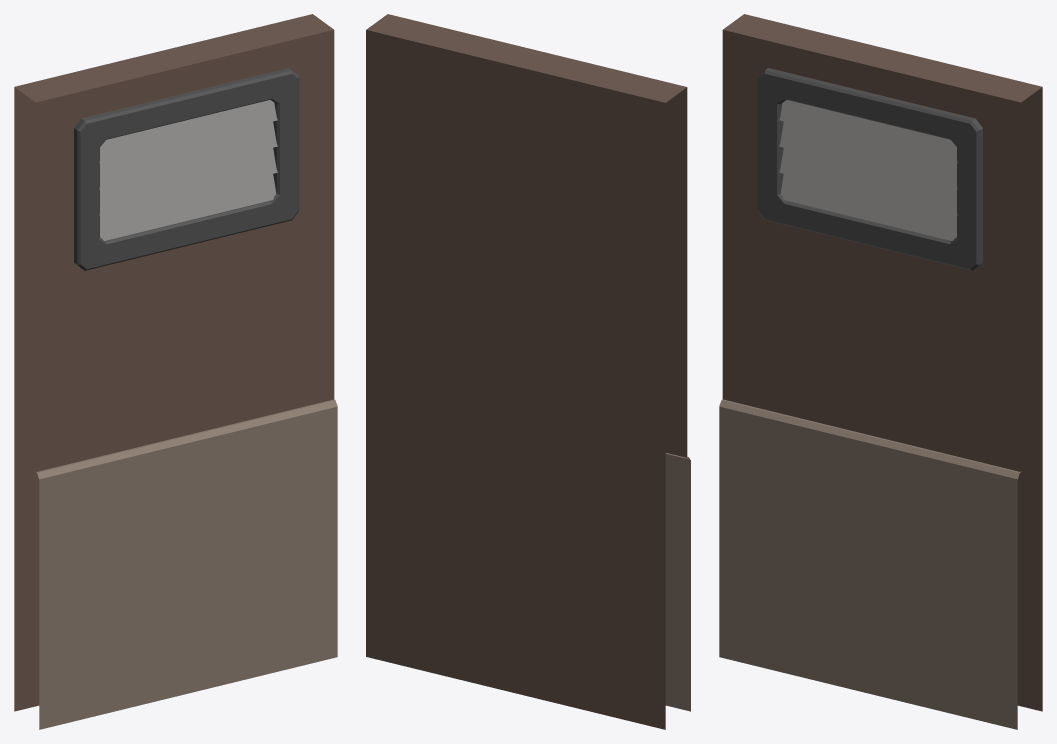
File: pared_2.fbx
The picture shows the model from 3 angles, left to right: view 1: azimuth 30°, elevation 25°; view 2: azimuth 150°, elevation 25°; view 3: azimuth 330°, elevation 25°; orthographic projection.
Visible parts, largest first — view 1: base1, zocalo, borde_rejilla, rejilla_3, rejilla_2, rejilla_4, rejilla_1; view 2: base1, zocalo; view 3: base1, zocalo, borde_rejilla, rejilla_3, rejilla_2, rejilla_4, rejilla_1.
Part boxes in pixels (<box>): base1: <box>14,14,334,711</box>; zocalo: <box>35,399,337,729</box>; borde_rejilla: <box>74,68,299,270</box>; rejilla_3: <box>99,147,277,215</box>; rejilla_2: <box>99,121,277,189</box>; rejilla_4: <box>100,174,276,240</box>; rejilla_1: <box>99,100,277,163</box>; base1: <box>366,14,687,729</box>; zocalo: <box>665,453,690,711</box>; base1: <box>722,14,1042,711</box>; zocalo: <box>719,399,1021,729</box>; borde_rejilla: <box>757,68,982,270</box>; rejilla_3: <box>779,147,957,215</box>; rejilla_2: <box>779,121,957,189</box>; rejilla_4: <box>780,174,956,240</box>; rejilla_1: <box>779,100,957,163</box>.
Size of the model in its own units: 100 by 200 by 15.07.
